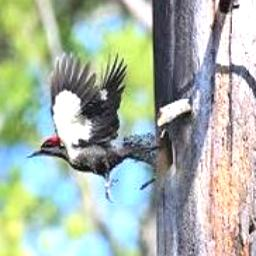Woodpecker: (25, 51, 163, 202)
